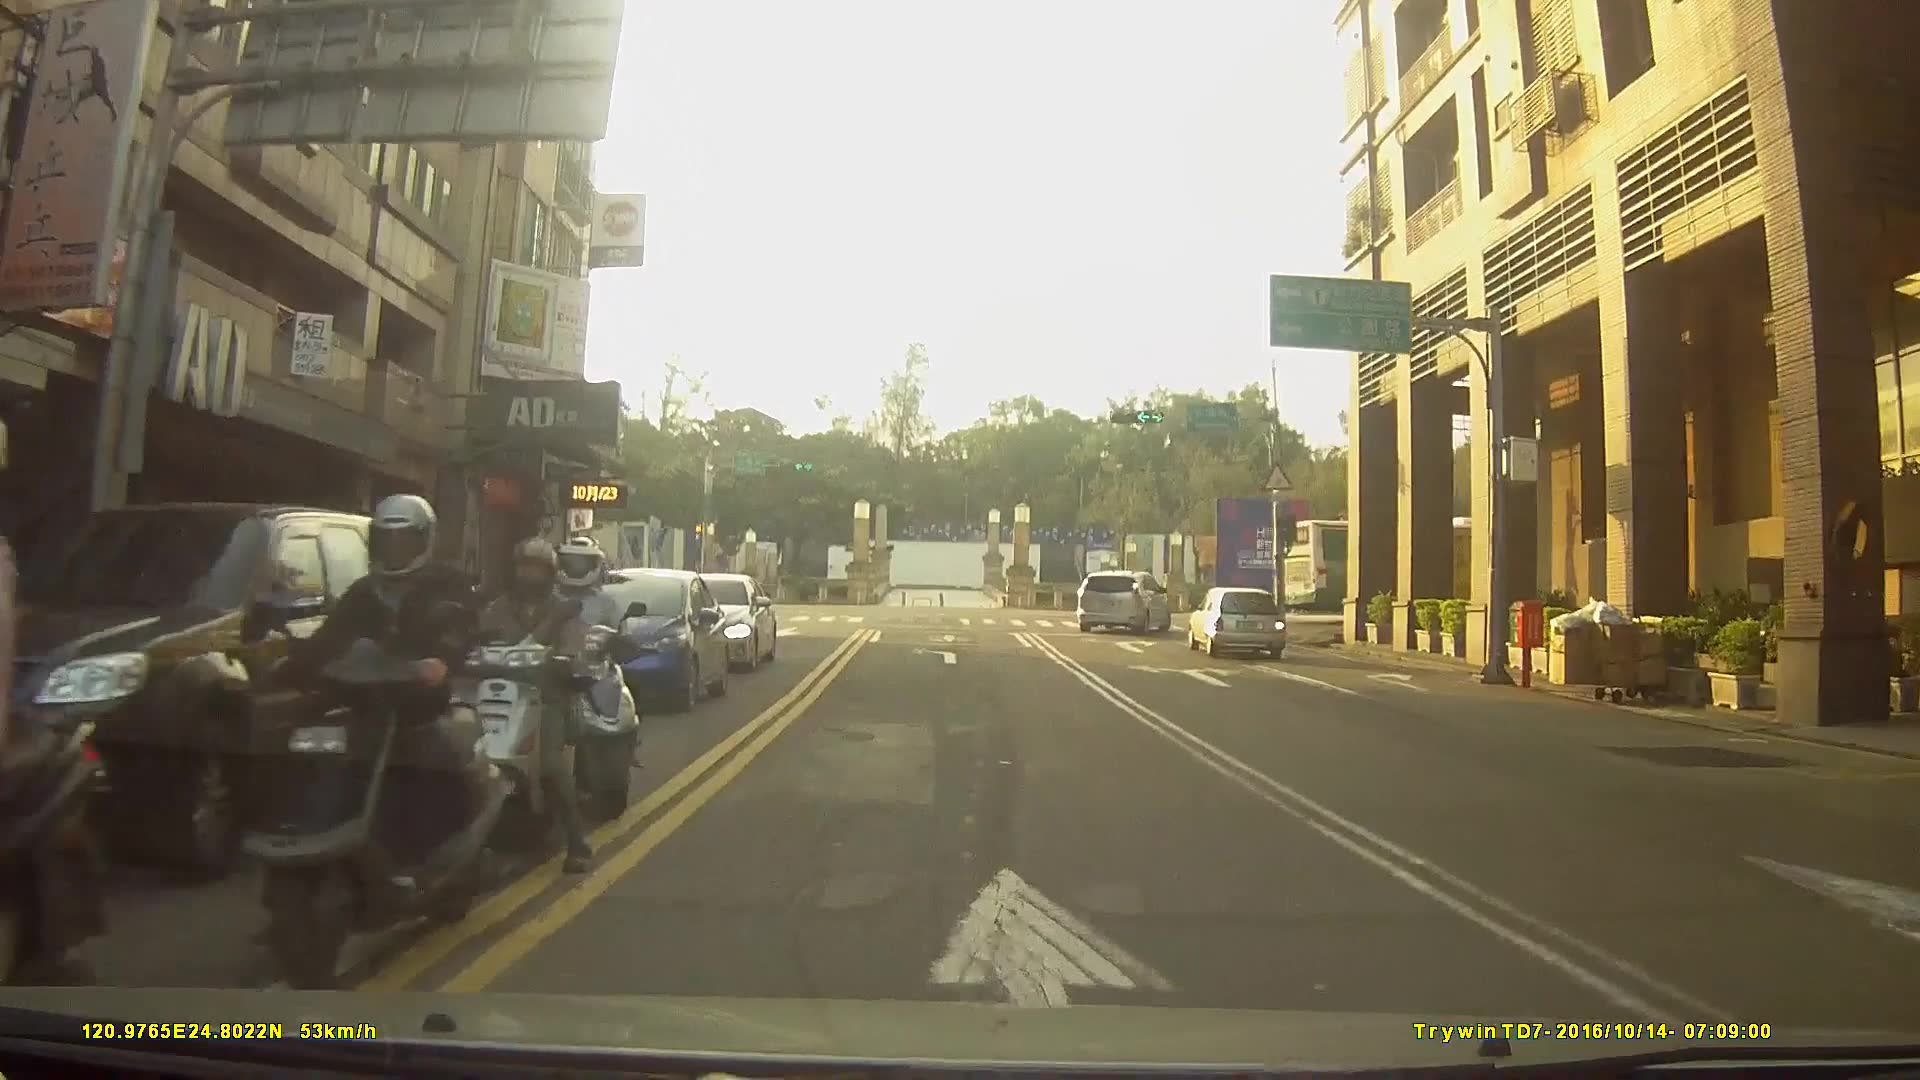rider: (238, 495, 516, 996), (1, 428, 115, 1080), (441, 537, 599, 888), (523, 536, 641, 820)
vehicle: (0, 499, 443, 884), (535, 563, 729, 712), (1273, 513, 1539, 611), (643, 569, 776, 669), (1185, 585, 1285, 659), (1077, 567, 1169, 632)
